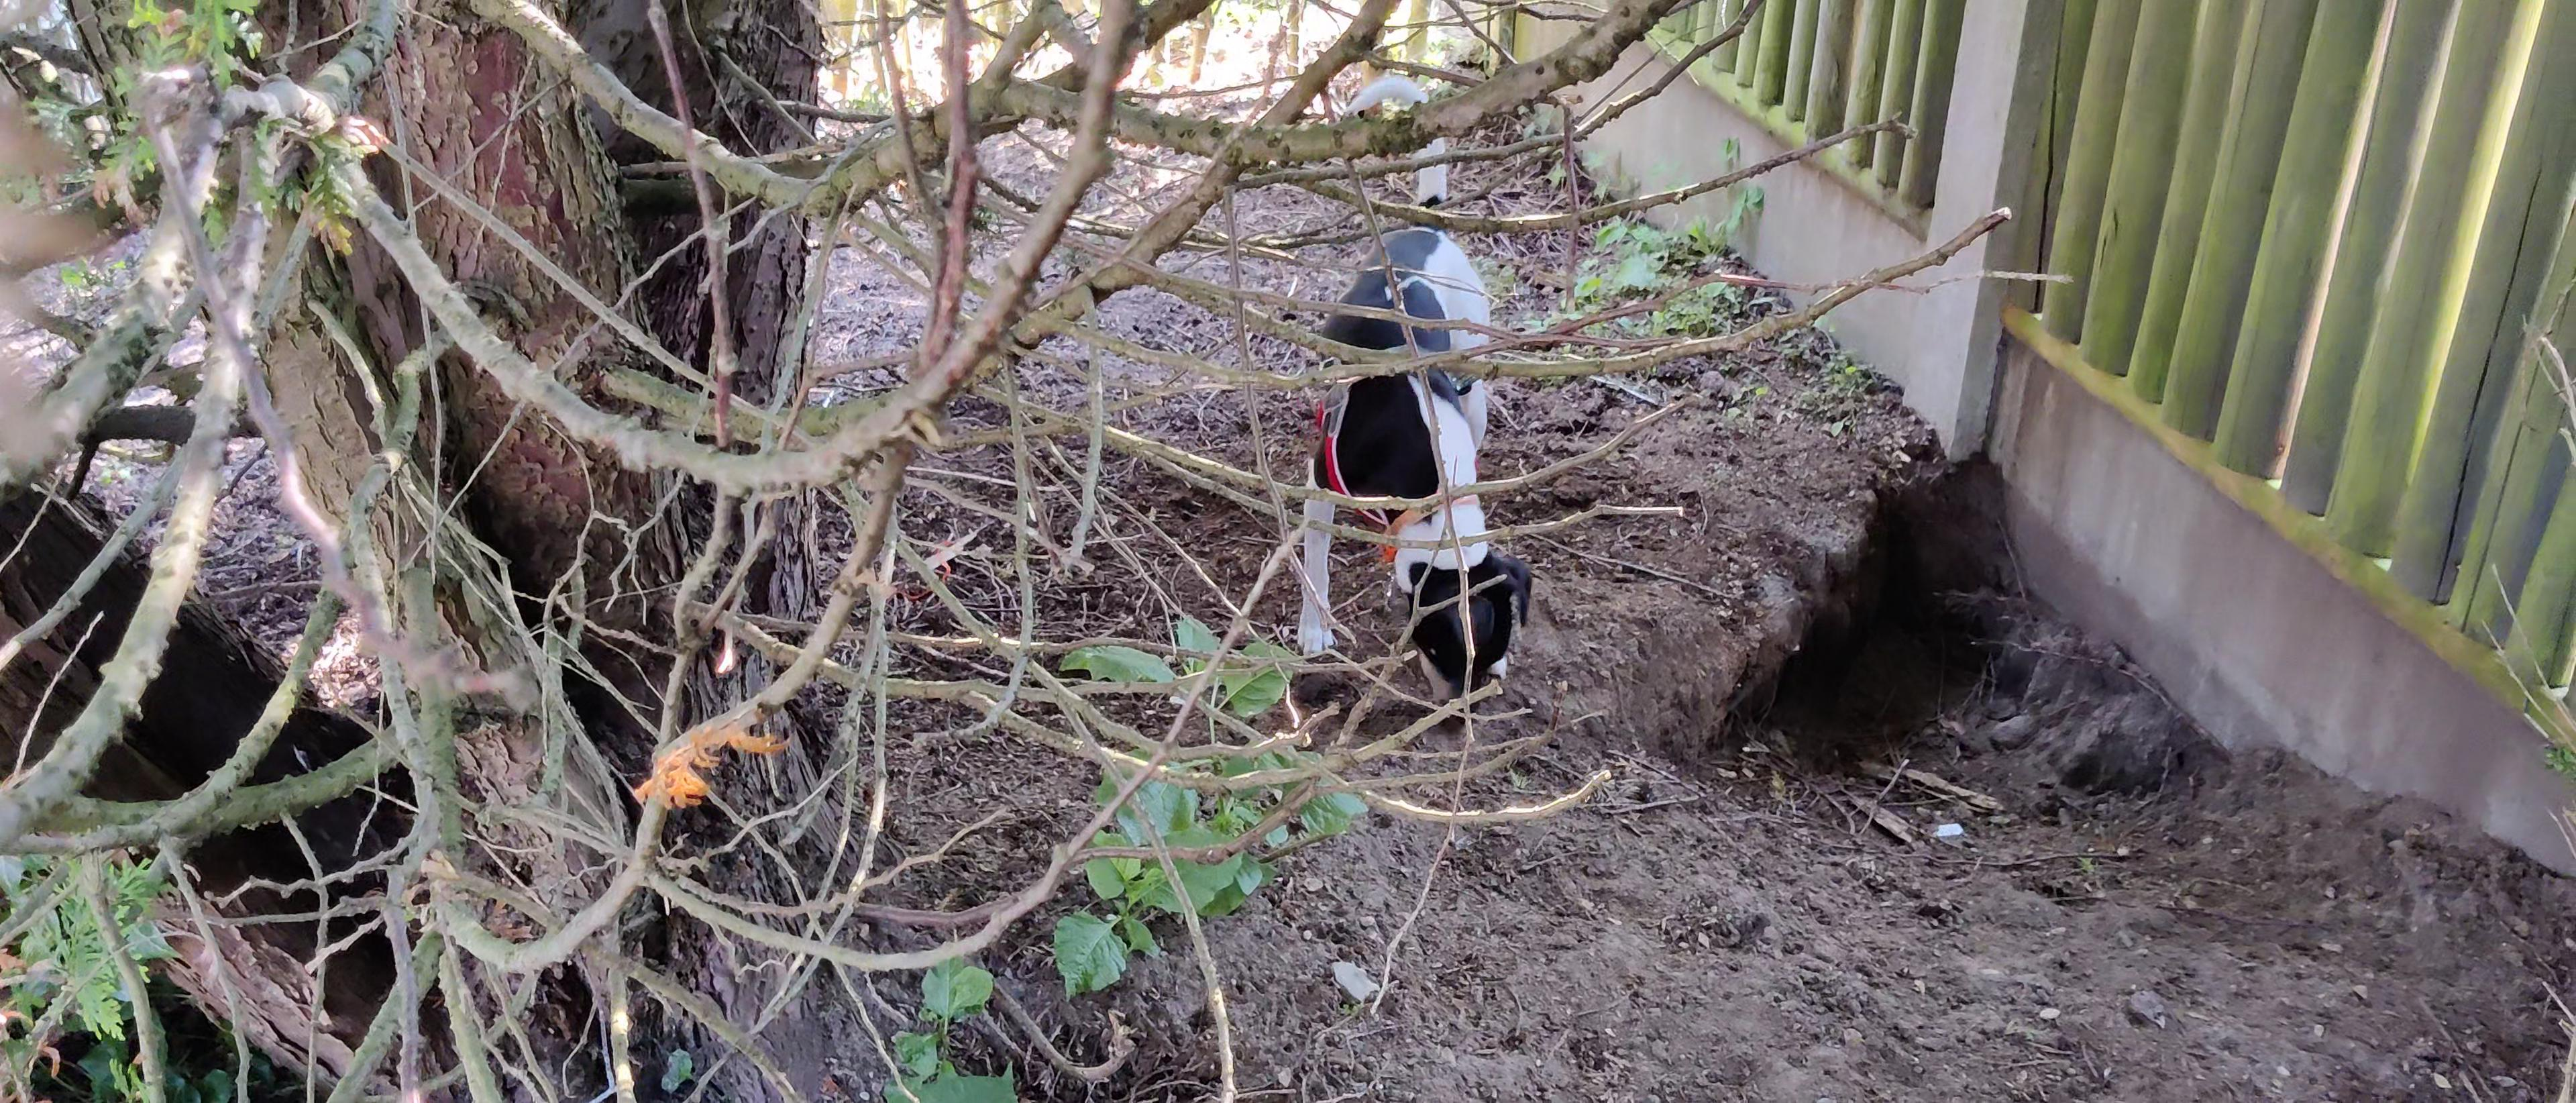Dog: (1285, 54, 1541, 755)
